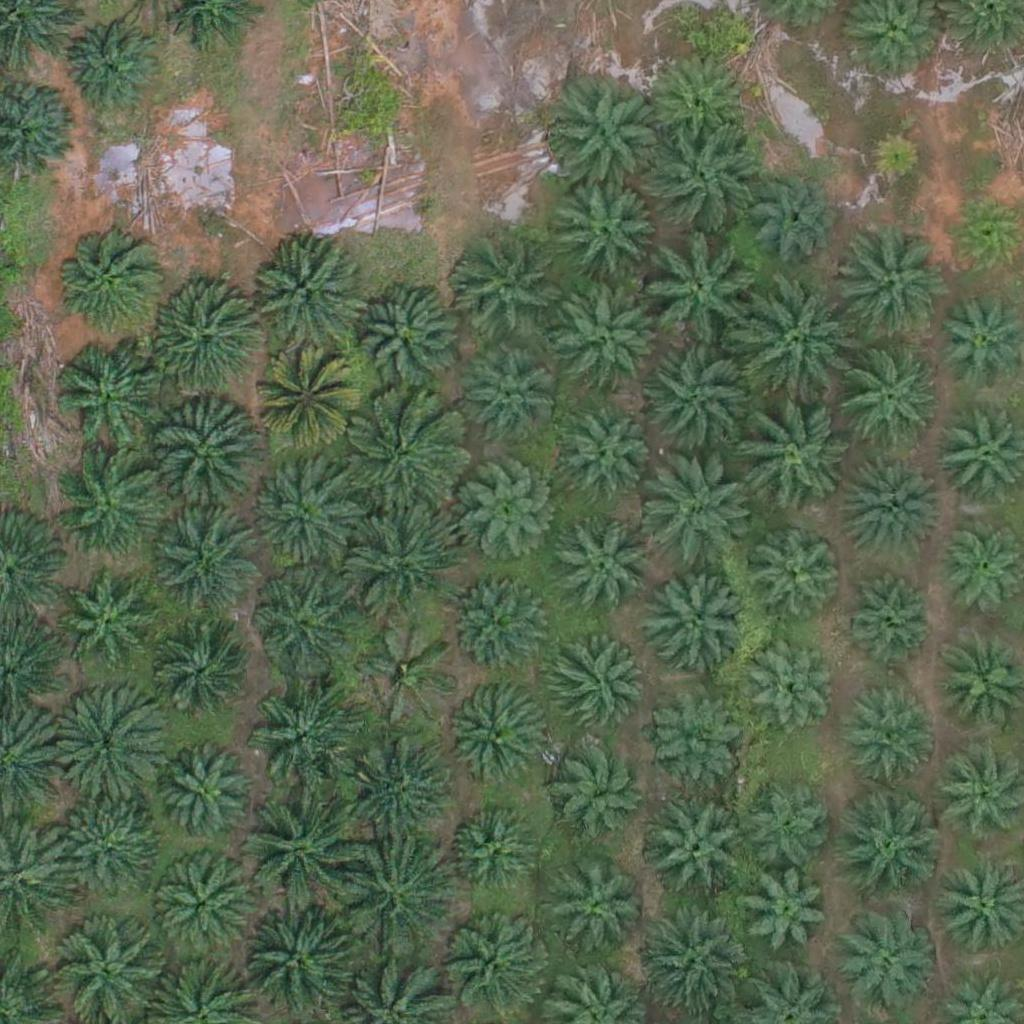Kelapa_Sawit: (242, 902, 355, 1016), (49, 686, 162, 800), (641, 342, 754, 455), (339, 727, 452, 840), (343, 507, 456, 620), (347, 395, 460, 508), (241, 796, 354, 909), (150, 402, 263, 515), (52, 344, 165, 457), (738, 289, 851, 402), (644, 238, 757, 351), (549, 81, 662, 194), (346, 283, 459, 396), (640, 459, 752, 573), (339, 841, 451, 955), (55, 449, 167, 563), (53, 221, 165, 335), (734, 398, 846, 511), (247, 675, 359, 788), (835, 225, 947, 338), (650, 121, 762, 234), (552, 271, 664, 384), (446, 234, 558, 347), (249, 240, 361, 353), (139, 284, 251, 397), (842, 347, 942, 448), (839, 680, 939, 781), (838, 799, 938, 900), (835, 908, 935, 1009), (747, 520, 847, 621), (647, 575, 747, 676), (651, 804, 751, 905), (552, 517, 652, 618), (544, 637, 644, 738), (549, 737, 649, 838), (450, 572, 550, 673), (447, 688, 547, 789), (446, 914, 546, 1015), (248, 461, 348, 562), (250, 573, 350, 674), (156, 518, 256, 619), (151, 858, 251, 959), (57, 573, 157, 674), (649, 51, 749, 152), (557, 185, 657, 286), (838, 462, 938, 562), (643, 687, 743, 787), (453, 467, 553, 567), (359, 623, 459, 723), (254, 355, 354, 455), (148, 632, 248, 732), (59, 805, 159, 905), (62, 24, 162, 124), (161, 752, 249, 841), (844, 573, 932, 661), (449, 813, 537, 901), (756, 171, 844, 259), (745, 641, 832, 729), (745, 782, 832, 870), (742, 870, 829, 958), (564, 412, 651, 500), (553, 865, 640, 953), (466, 357, 553, 445), (861, 129, 924, 192)
